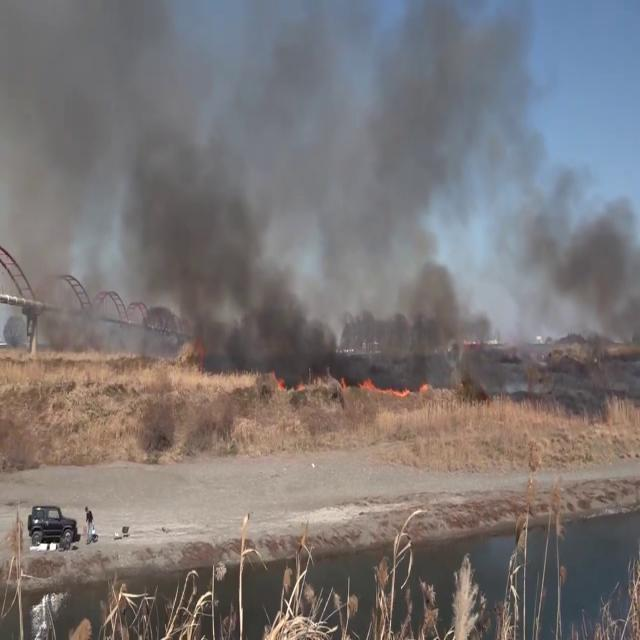Smoke: (0, 0, 524, 374), (507, 156, 640, 362)
